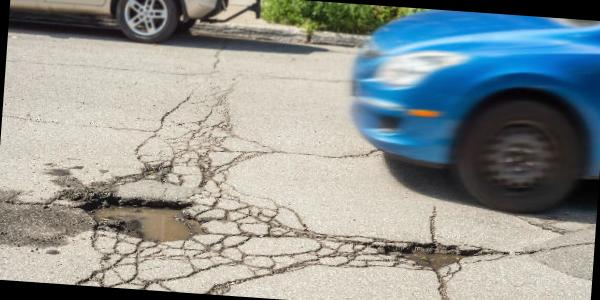pothole: (74, 180, 232, 256), (364, 232, 494, 286), (130, 150, 186, 188)
